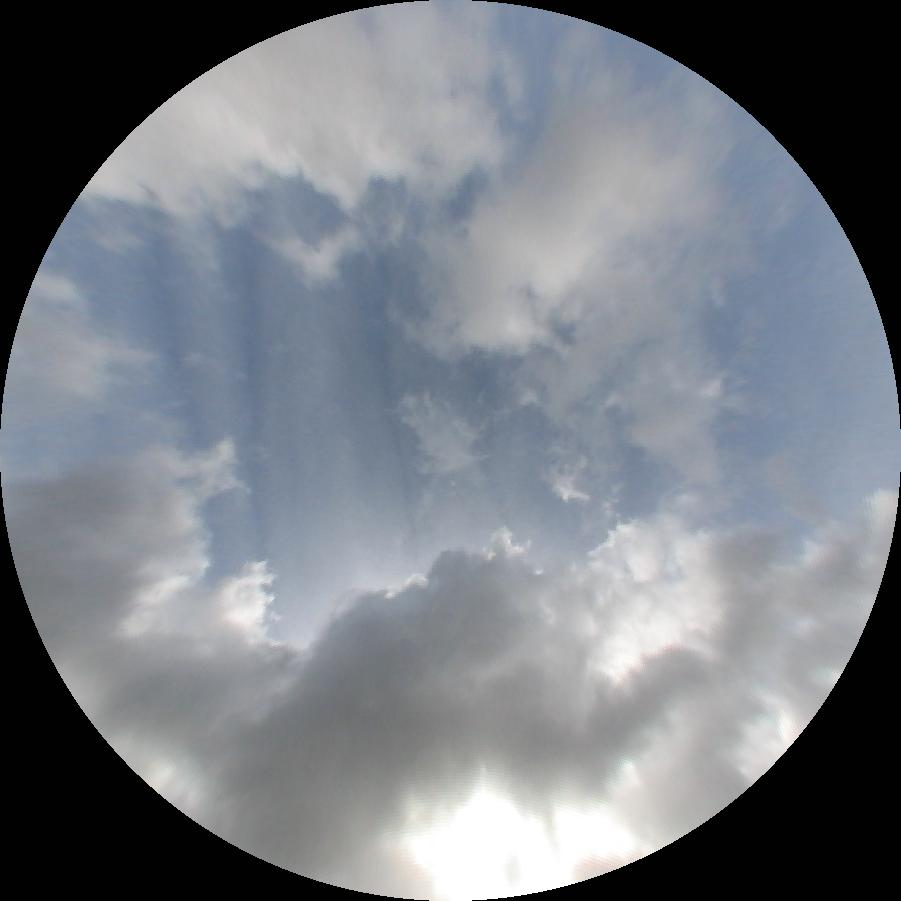sun: (421, 794, 549, 899)
